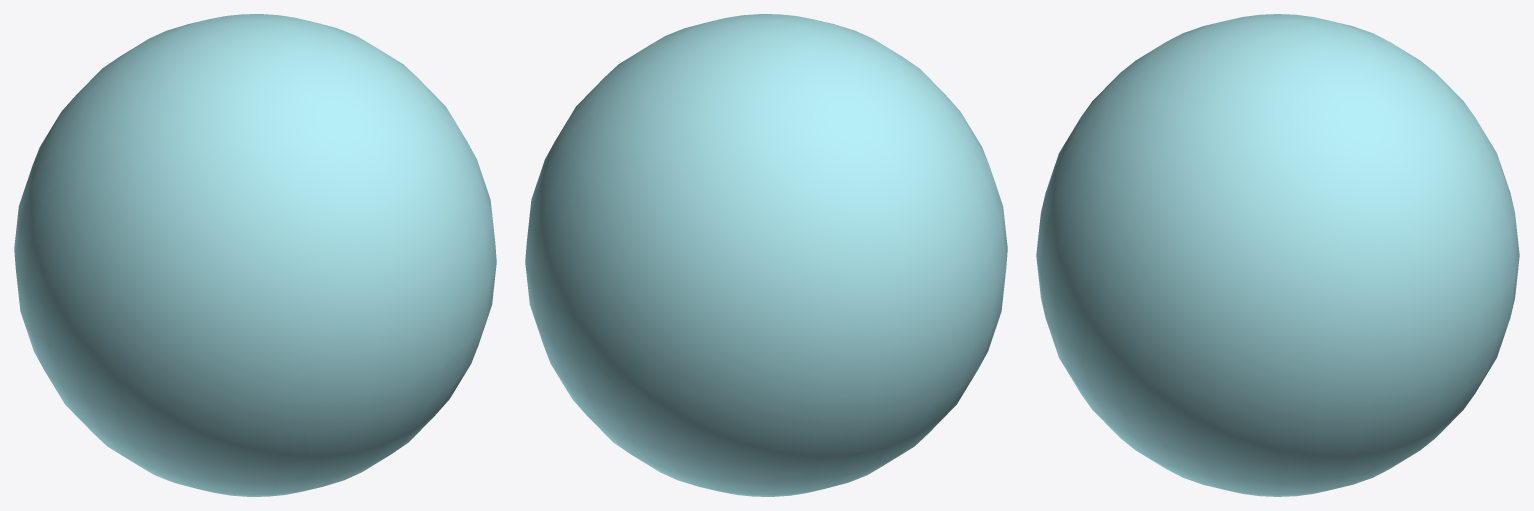
File: dna_droplet.glb
3 renders of one model, left to right at view 1: azimuth 30°, elevation 25°; view 2: azimuth 150°, elevation 25°; view 3: azimuth 270°, elevation 25°, orthographic.
Visible parts, largest first — view 1: DROPLET_SHELL; view 2: DROPLET_SHELL; view 3: DROPLET_SHELL.
Boxes of the visible parts, x1=… form: DROPLET_SHELL: x1=14, y1=14, x2=496, y2=496; DROPLET_SHELL: x1=525, y1=14, x2=1007, y2=496; DROPLET_SHELL: x1=1036, y1=14, x2=1519, y2=496.
Bounding box in the file's own units: 2.36 × 2.36 × 2.36.
